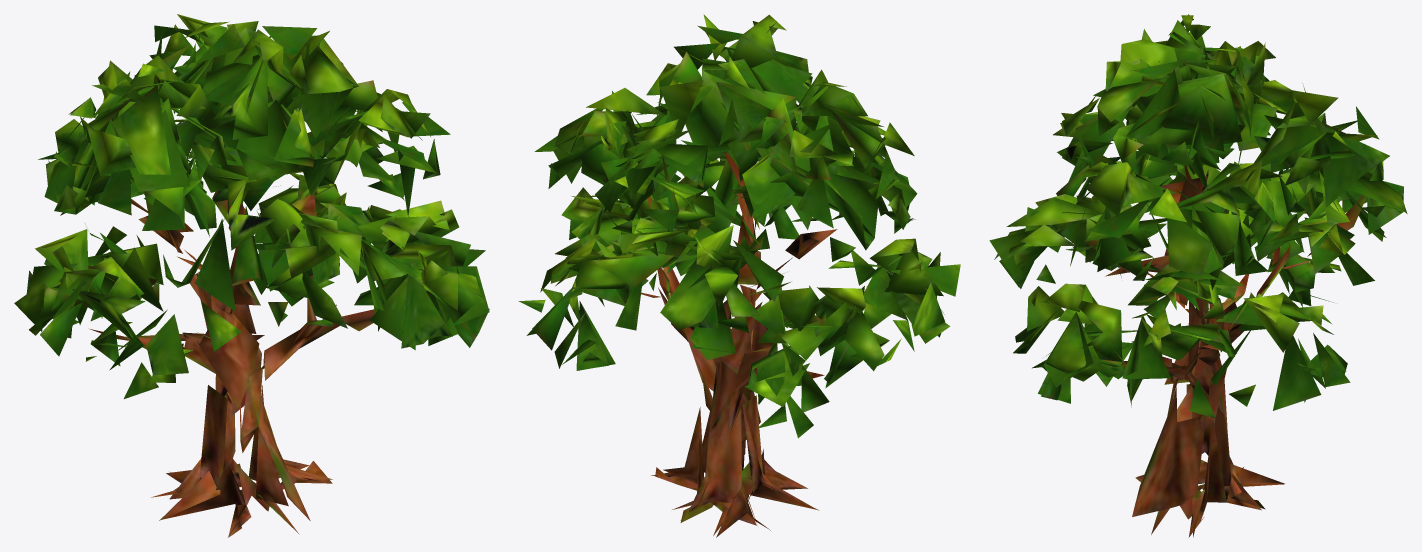
The model's file is tree-broadleaf-lod1.glb.
The picture shows the model from 3 angles, left to right: view 1: azimuth 30°, elevation 25°; view 2: azimuth 150°, elevation 25°; view 3: azimuth 270°, elevation 25°; orthographic projection. The views are drawn at different scales.
Visible parts, largest first — view 1: tree-broadleaf; view 2: tree-broadleaf; view 3: tree-broadleaf.
Part boxes in pixels (x1=…): tree-broadleaf: x1=14, y1=14, x2=489, y2=537; tree-broadleaf: x1=518, y1=14, x2=960, y2=537; tree-broadleaf: x1=989, y1=14, x2=1407, y2=537.
Bounding box in the file's own units: 6.42 × 7.39 × 5.8.
Materials: 1 (1 with a texture image).
